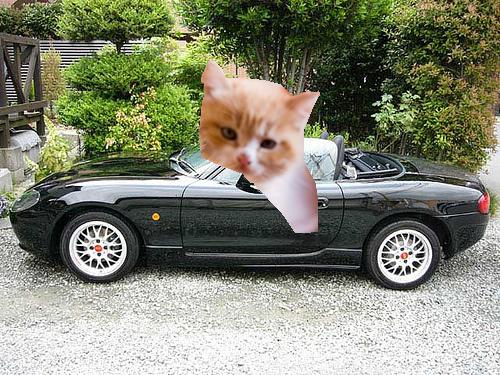tampered: (200, 60, 320, 233)
